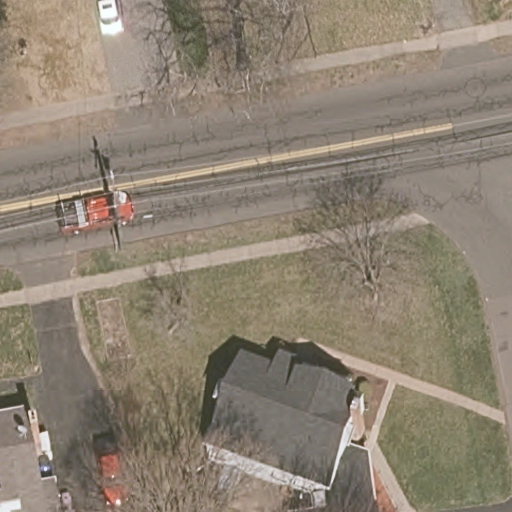DT: (98, 158, 128, 251)
